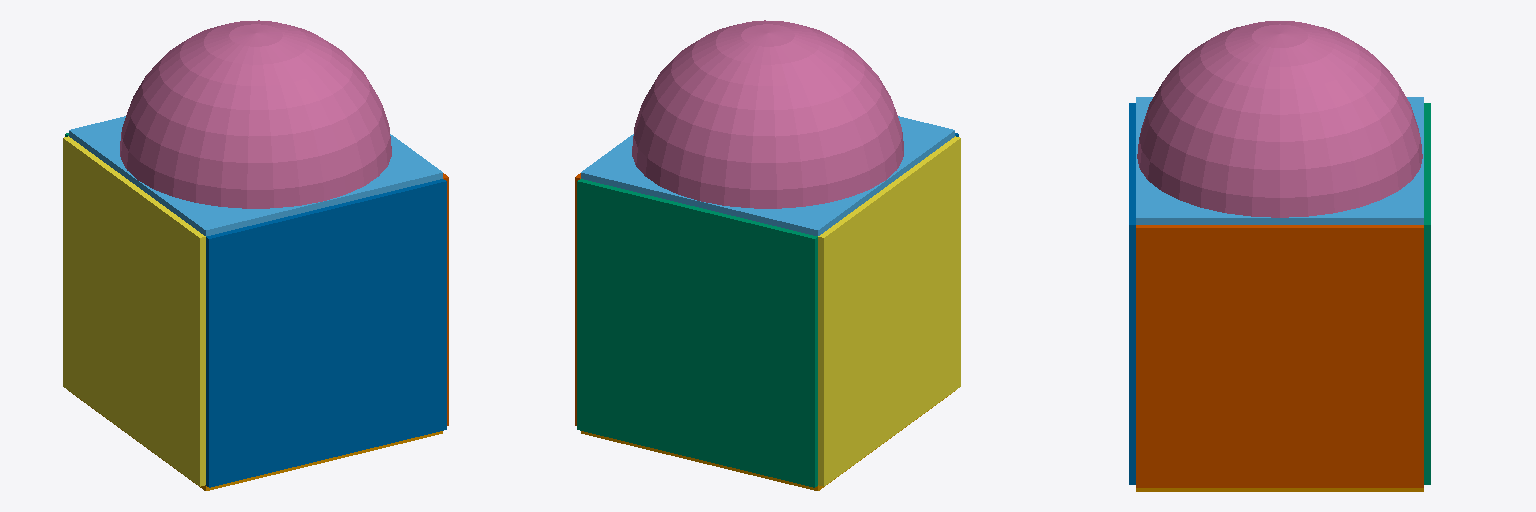
The robot description file, URDF, robot "box":
<?xml version="1.0"?>
<robot name="box">
	<link name="base_link">
		<visual>
			<geometry>
				<box size="1 1 0.05"/>
			</geometry>
			<origin xyz="0 0 0" rpy="0 0 0"/>
		</visual>
	</link>
	<link name="top_link">
		<visual>
			<geometry>
				<box size="1 1 0.05"/>
			</geometry>
			<origin xyz="0.5 0 0" rpy="0 0 0"/>
		</visual>
	</link>
	
	<joint name="top_to_back" type="revolute">
	  <axis rpy="0 0 0" xyz="0 -1 0"/>
	  <parent link="back_link"/>
	  <child link="top_link"/>
	  <limit effort="1000.0" lower="0" upper="1.57" velocity="0.5"/>
	  <origin rpy="0 0 0" xyz="0 0 1"/>
	</joint>
  	<link name="right_link">
		<visual>
			<geometry>
				<box size="1 1 0.05"/>
			</geometry>
			<origin xyz="0 0 0.5" rpy="1.5708 0 0"/>
		</visual>
	</link>

	<joint name="right_to_bottom" type="fixed">
	  	<parent link="base_link"/>
	  	<child link="right_link"/>
	  	<origin rpy="0 0 0" xyz="0 .5 0"/>
	</joint>
	<link name="back_link">
		<visual>
			<geometry>
				<box size="1 1 0.05"/>
			</geometry>
			<origin xyz="0 0 0.5" rpy="1.5708 0 1.5708"/>
		</visual>
	</link>

	<joint name="back_to_bottom" type="fixed">
		<parent link="base_link"/>
		<child link="back_link"/>
		<origin rpy="0 0 0" xyz="-0.5 0 0"/>
	</joint>
	<link name="left_link">
		<visual>
			<geometry>
				<box size="1 1 0.05"/>
			</geometry>
			<origin xyz="0 0 0.5" rpy="1.5708 0 0"/>
		</visual>
	</link>

	<joint name="left_to_bottom" type="fixed">
		<parent link="base_link"/>
		<child link="left_link"/>
		<origin rpy="0 0 0" xyz="0 -0.5 0"/>
	</joint>
	<link name="front_link">
		<visual>
			<geometry>
				<box size="1 1 0.05"/>
			</geometry>
			<origin xyz="0 0 0.5" rpy="1.5708 0 1.5708"/>
		</visual>
	</link>

	<joint name="front_to_bottom" type="fixed">
		<parent link="base_link"/>
		<child link="front_link"/>
		<origin rpy="0 0 0" xyz="0.5 0 0"/>
	</joint>
	<link name="cheese">
		<visual>
			<geometry>
				<sphere radius="0.5"/>
			</geometry>
			<origin xyz="0.5 0 0" rpy="0 0 0"/>
		</visual>
	</link>
	<joint name="top_to_cheese" type="fixed">
		<parent link="top_link"/>
		<child link="cheese"/>
		<origin rpy="0 0 0" xyz="0 0 0"/>
	</joint>
</robot>

--- What the picture shows (computed from the rendered views, not written in the file) ---
Views: 3 orthographic renders of the robot side by side, from view 1: azimuth 30°, elevation 25°; view 2: azimuth 150°, elevation 25°; view 3: azimuth 270°, elevation 25°.
Model box with 7 links and 6 joints (1 revolute, 5 fixed), rooted at base_link, posed all joints at 0.
Visible links, largest first — view 1: left_link, cheese, back_link, top_link, base_link; view 2: right_link, cheese, back_link, top_link, base_link; view 3: front_link, cheese, top_link, right_link, left_link, base_link.
Boxes of the visible links, x1,y1,x2,y2 form: left_link: [206, 179, 446, 487]; cheese: [120, 20, 391, 208]; back_link: [63, 136, 205, 486]; top_link: [69, 116, 442, 235]; base_link: [69, 391, 442, 490]; right_link: [577, 179, 817, 487]; cheese: [632, 20, 903, 208]; back_link: [818, 136, 960, 486]; top_link: [581, 116, 954, 235]; base_link: [581, 391, 954, 490]; front_link: [1136, 225, 1423, 487]; cheese: [1137, 21, 1422, 217]; top_link: [1136, 97, 1423, 224]; right_link: [1424, 103, 1430, 484]; left_link: [1129, 103, 1135, 484]; base_link: [1136, 488, 1423, 491].
Size in the robot's own frame: 1.05 by 1.05 by 1.52 metres.
Geometry: primitives only (box / cylinder / sphere), no mesh files.
